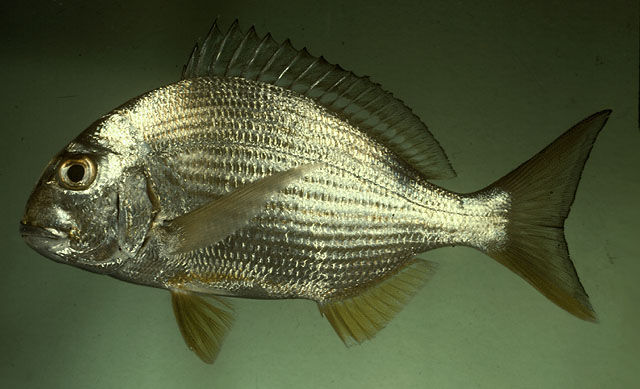fish: (19, 14, 613, 366)
